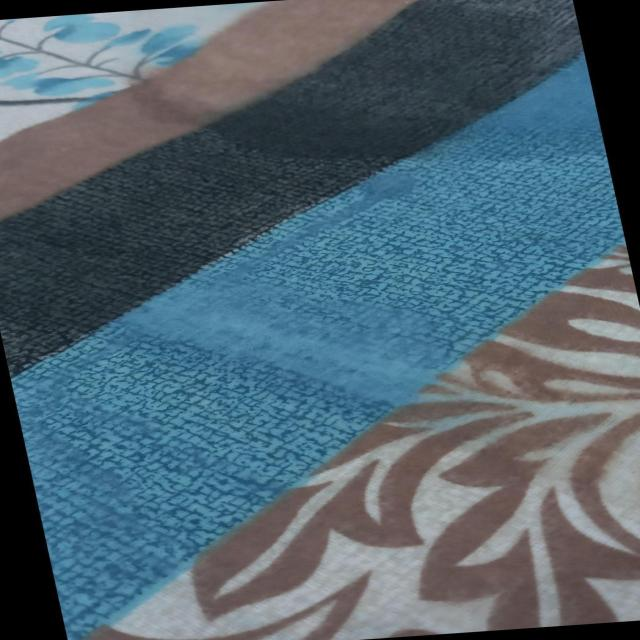baekra: (11, 227, 638, 497), (0, 0, 597, 198)
